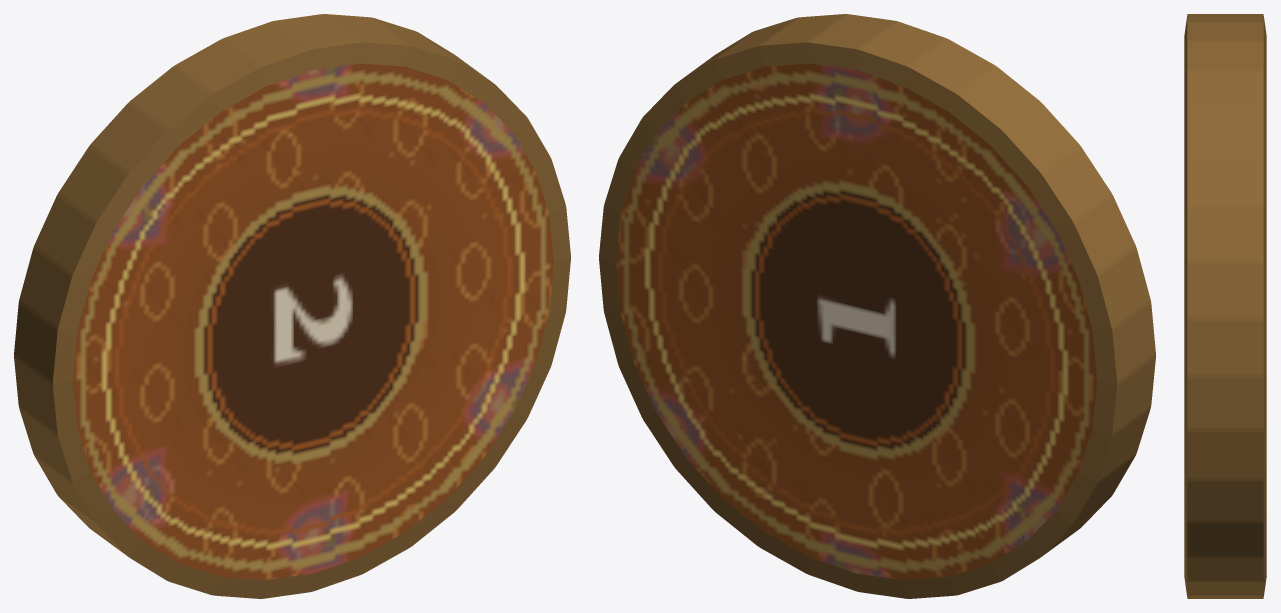
3 renders of one model, left to right at view 1: azimuth 30°, elevation 25°; view 2: azimuth 150°, elevation 25°; view 3: azimuth 270°, elevation 25°, orthographic. The views are drawn at different scales.
Bounding box in the file's own units: 101 × 101 × 14.14.
Materials: 1 (1 with a texture image).
